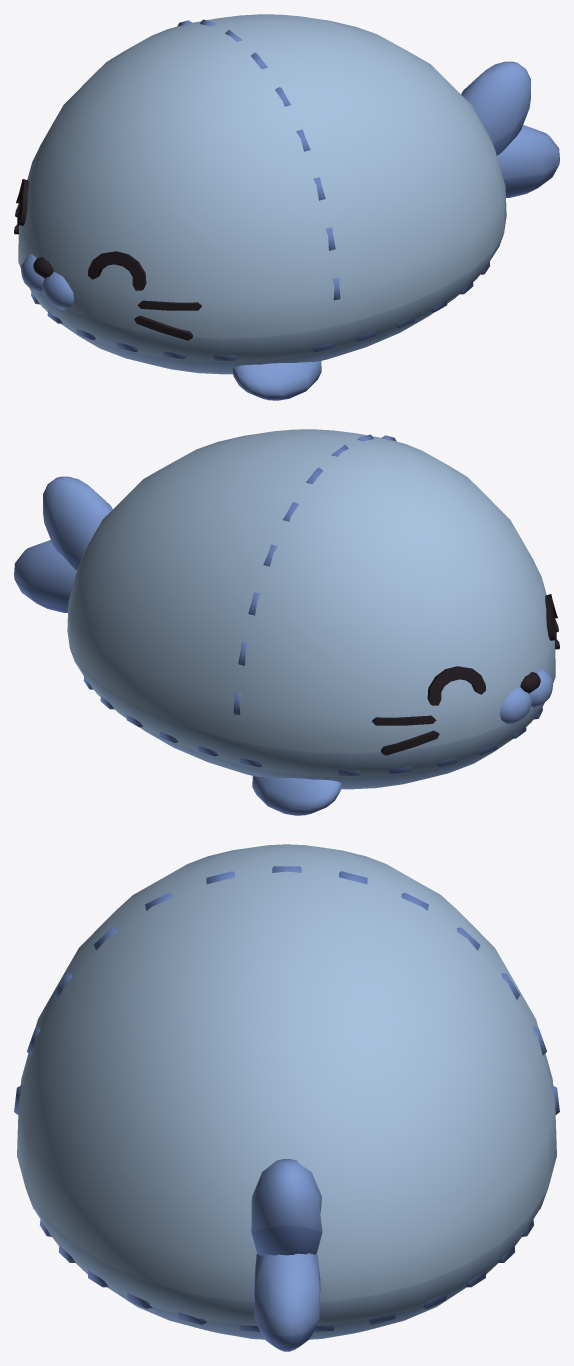
Rendered from Cosmetic_SealPillow_Blue.glb.
3 views of the same model, one above another, from view 1: azimuth 30°, elevation 25°; view 2: azimuth 150°, elevation 25°; view 3: azimuth 270°, elevation 25° (orthographic). The views are drawn at different scales.
Visible parts, largest first — view 1: Cosmetic_SealPillow_Blue; view 2: Cosmetic_SealPillow_Blue; view 3: Cosmetic_SealPillow_Blue.
Boxes of the visible parts, box(x1,y1,x2,y2) form: Cosmetic_SealPillow_Blue: box(14, 14, 559, 400); Cosmetic_SealPillow_Blue: box(14, 429, 559, 815); Cosmetic_SealPillow_Blue: box(14, 844, 559, 1351).
Size of the model in its own units: 0.5914 by 0.3323 by 0.4125.
